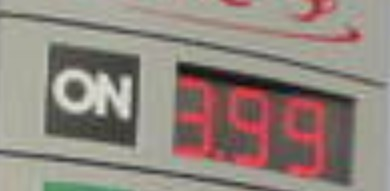digits: (157, 68, 218, 164), (222, 81, 272, 172), (279, 95, 332, 176)
